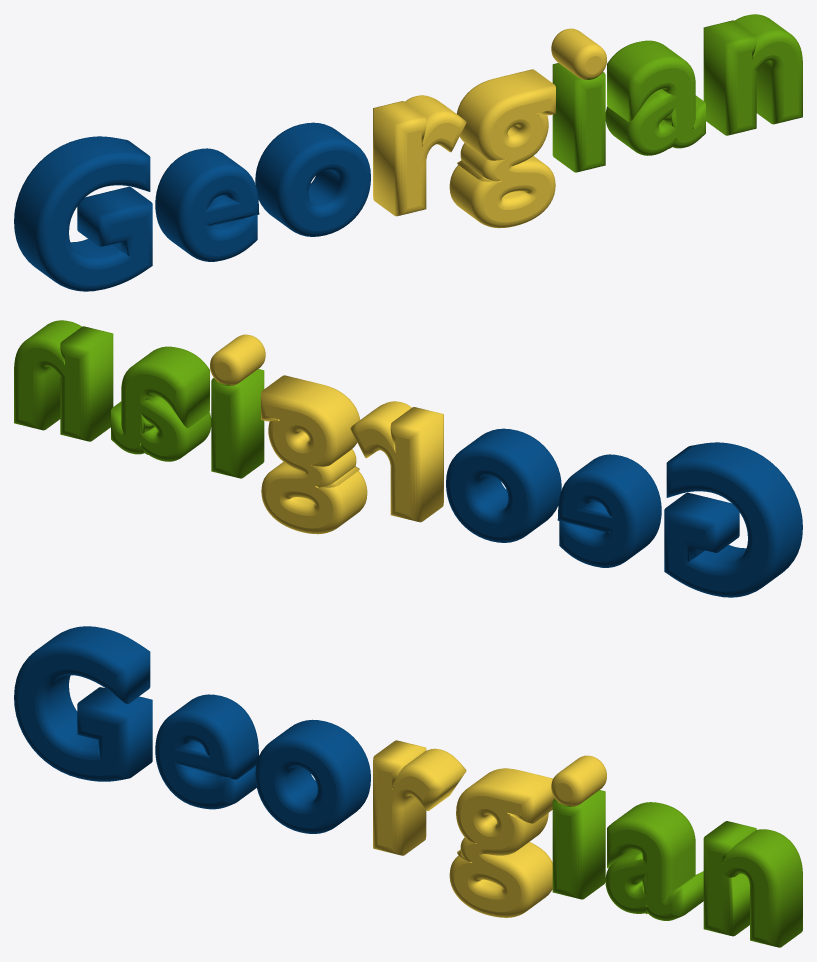
Rendered from GeorgianText.fbx.
3 views of the same model, one above another, from view 1: azimuth 30°, elevation 25°; view 2: azimuth 150°, elevation 25°; view 3: azimuth 330°, elevation 25° (orthographic).
Parts seen in each view (by area): view 1: Text; view 2: Text; view 3: Text.
Part boxes in pixels (x1,y1,x2,y2): Text: (14,14,802,291); Text: (14,320,802,597); Text: (14,626,802,947).
Bounding box in the file's own units: 32 × 478 × 102.
